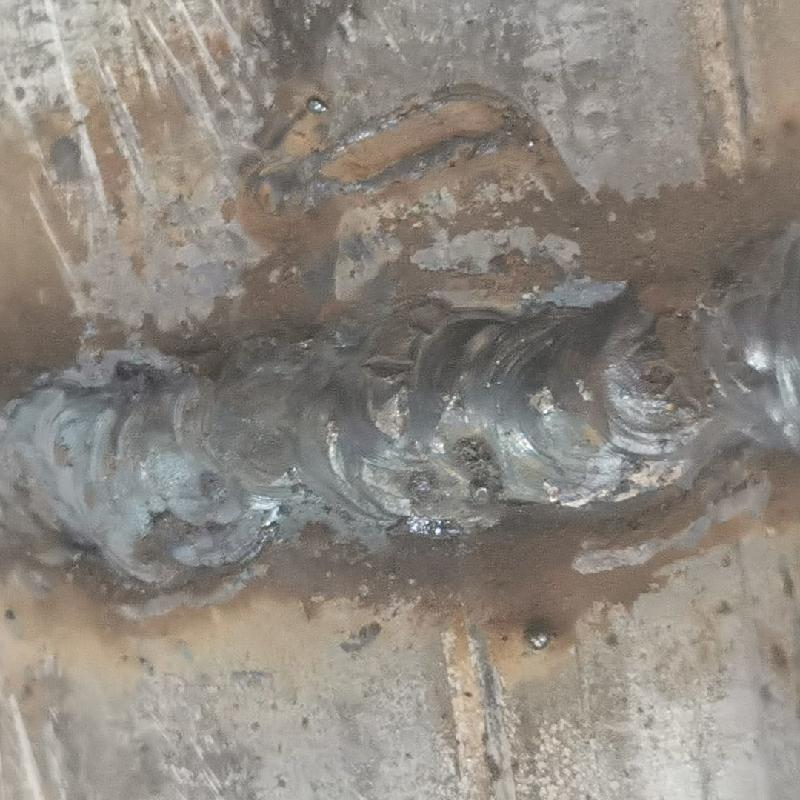good: (3, 300, 799, 588)
